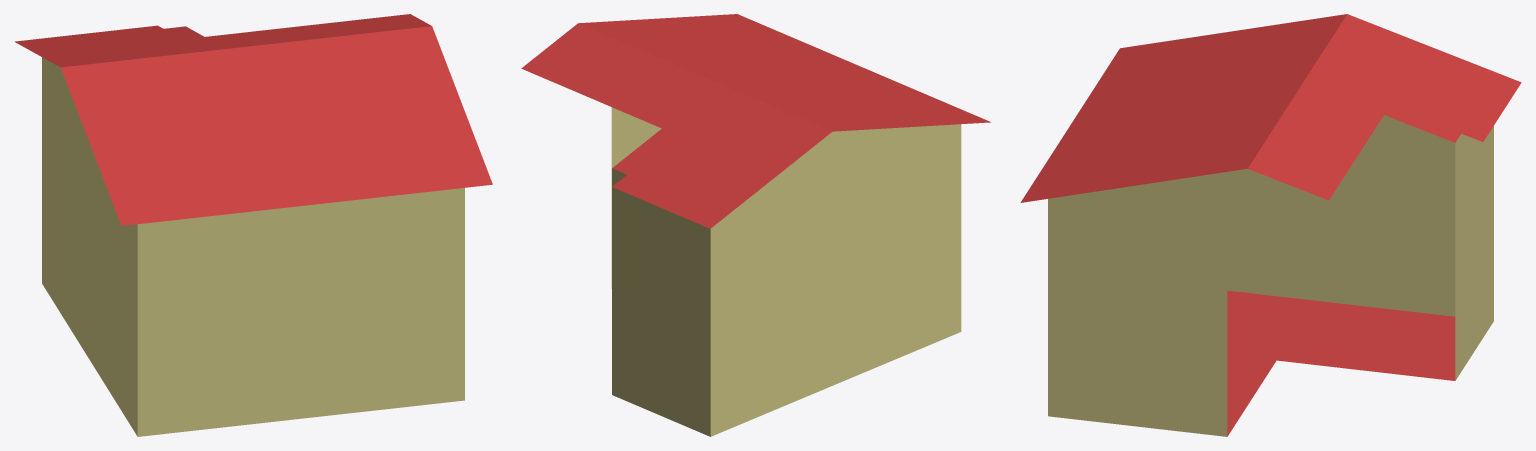
3 views of the same model, side by side, from view 1: azimuth 30°, elevation 25°; view 2: azimuth 150°, elevation 25°; view 3: azimuth 270°, elevation 25° (orthographic). The views are drawn at different scales.
Size of the model in its own units: 14.94 by 16.63 by 10.27.
